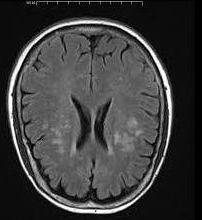Normal_Brain: (1, 1, 200, 220)
